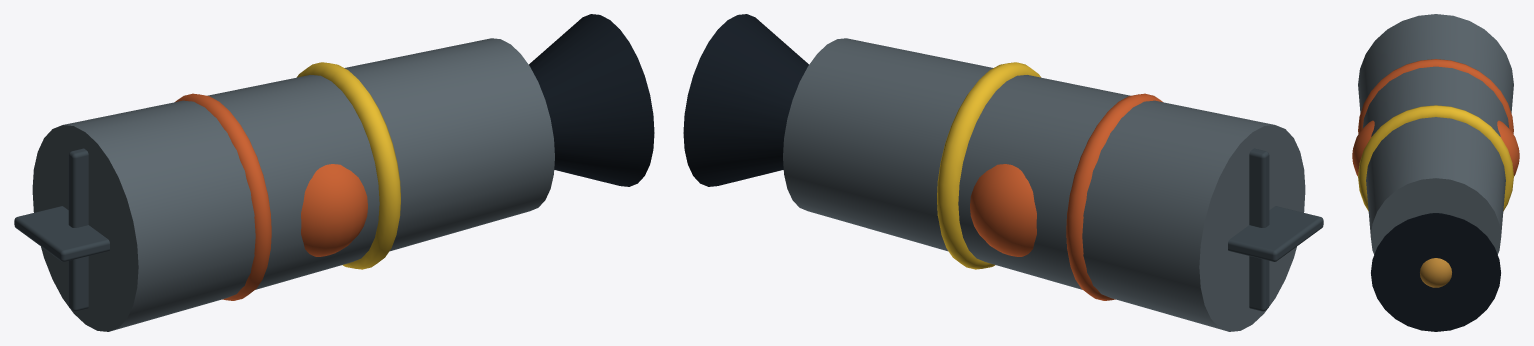
3 renders of one model, left to right at view 1: azimuth 30°, elevation 25°; view 2: azimuth 150°, elevation 25°; view 3: azimuth 270°, elevation 25°, orthographic. The views are drawn at different scales.
Size of the model in its own units: 4.26 by 1.34 by 1.44.
